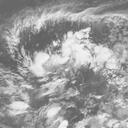cyclone: (32, 39, 82, 93)
